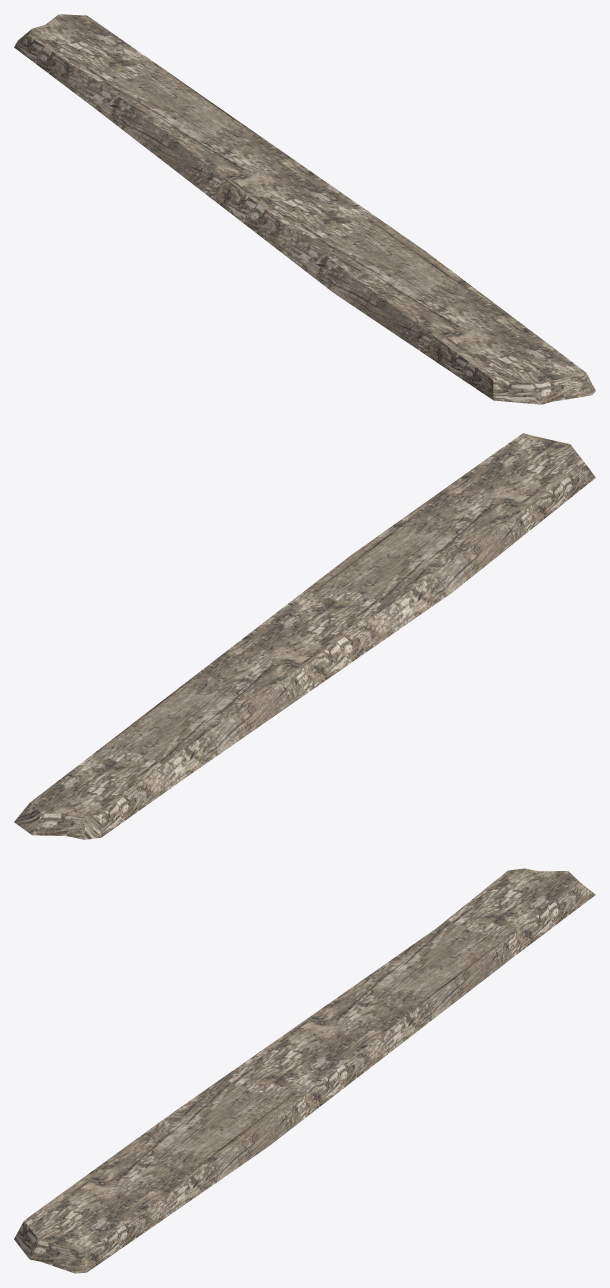
File: Plank_02.FBX
3 renders of one model, top to bottom at view 1: azimuth 30°, elevation 25°; view 2: azimuth 150°, elevation 25°; view 3: azimuth 330°, elevation 25°, orthographic. The views are drawn at different scales.
Visible parts, largest first — view 1: Plank_02; view 2: Plank_02; view 3: Plank_02.
Part boxes in pixels (x1,y1,x2,y2): Plank_02: (14, 14, 595, 404); Plank_02: (14, 433, 595, 839); Plank_02: (14, 868, 595, 1273).
Bounding box in the file's own units: 13.7 × 1.99 × 118.
